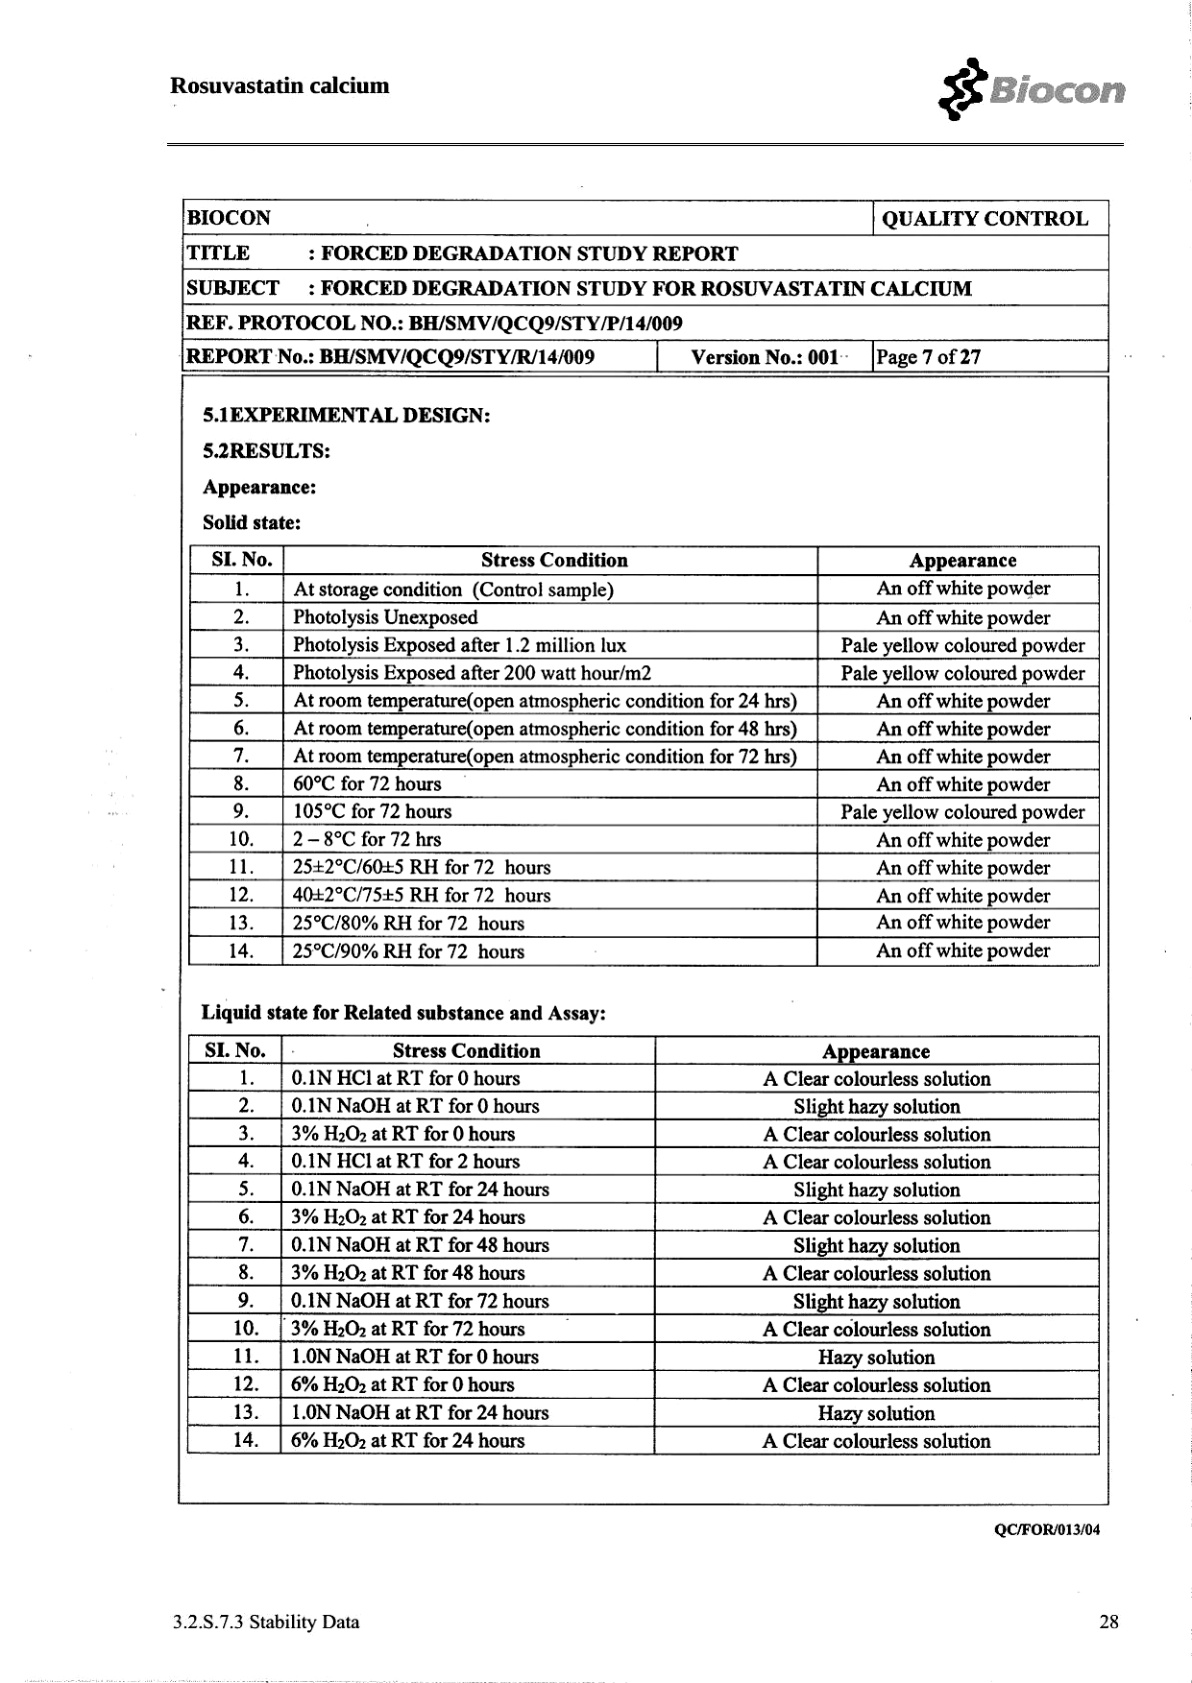full_lined: (188, 543, 1102, 969), (184, 1032, 1100, 1456)
merged_cells: (181, 197, 1109, 374)
